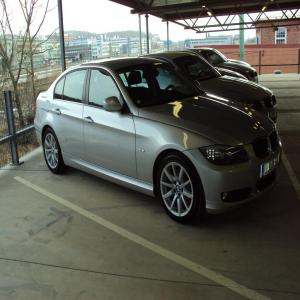Vehicle-registration-plate: (261, 153, 281, 178)
